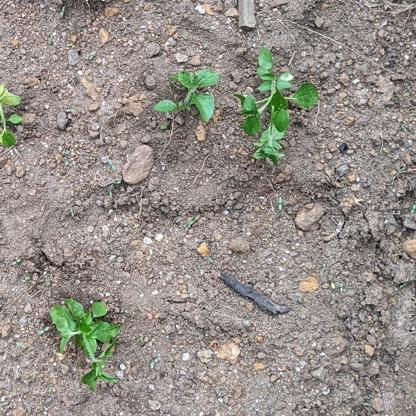weed: (232, 46, 319, 169), (44, 296, 123, 385), (152, 67, 221, 133), (1, 82, 29, 147)
